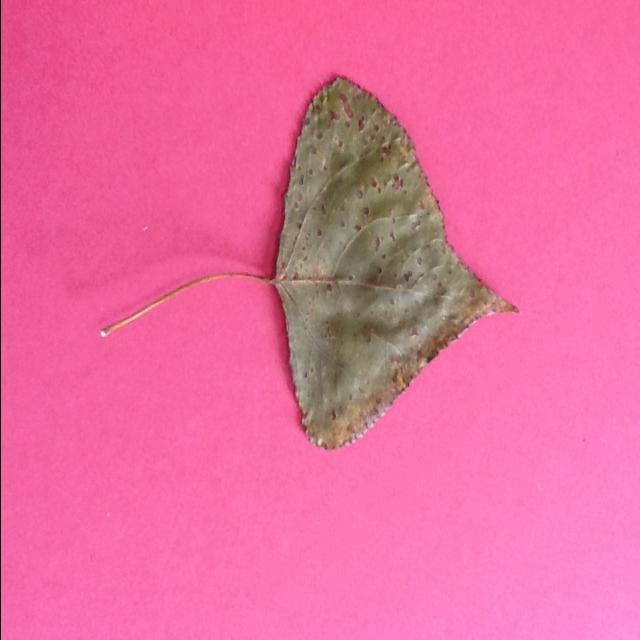foliage: (95, 80, 523, 453)
